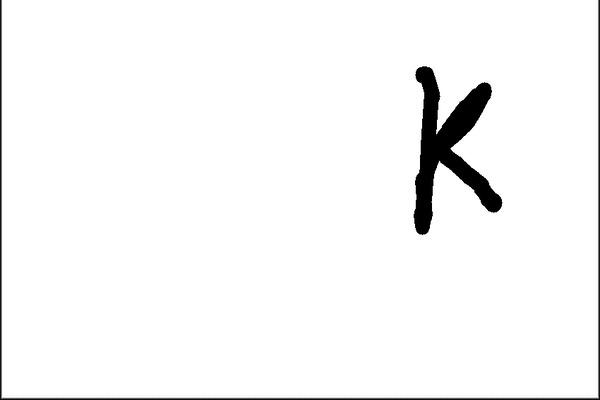K: (400, 54, 513, 240)
